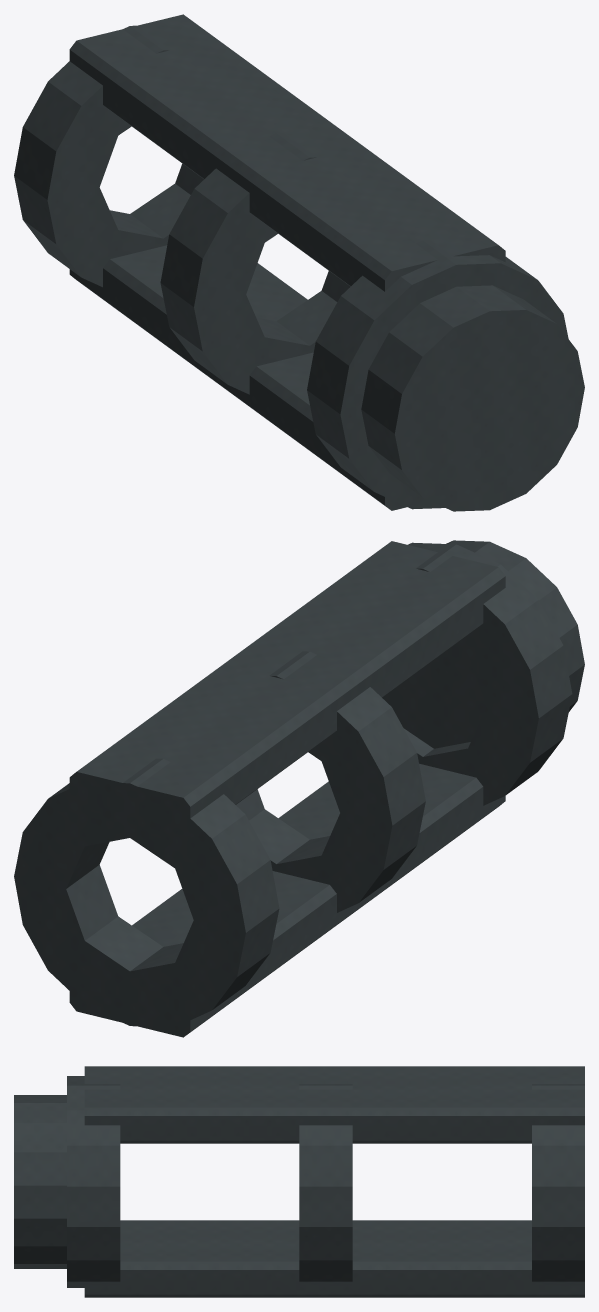
The model's file is ak_brake.glb.
3 views of the same model, one above another, from view 1: azimuth 30°, elevation 25°; view 2: azimuth 150°, elevation 25°; view 3: azimuth 270°, elevation 25° (orthographic). The views are drawn at different scales.
Visible parts, largest first — view 1: ak_brake_external_port_ring, ak_brake_external_port_ring.003; view 2: ak_brake_external_port_ring, ak_brake_external_port_ring.003; view 3: ak_brake_external_port_ring.
Part boxes in pixels (bbox=[...]): ak_brake_external_port_ring: bbox=[14, 14, 584, 511]; ak_brake_external_port_ring.003: bbox=[48, 51, 584, 509]; ak_brake_external_port_ring: bbox=[14, 540, 584, 1037]; ak_brake_external_port_ring.003: bbox=[14, 569, 538, 1025]; ak_brake_external_port_ring: bbox=[14, 1066, 584, 1297].
Bounding box in the file's own units: 0.048 × 0.048 × 0.129.
Materials: 1 (1 with a texture image).
